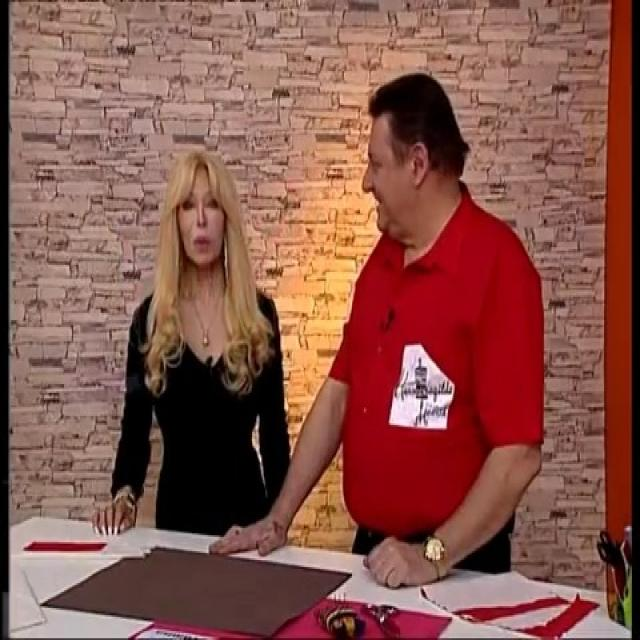Shirt: (328, 180, 546, 540)
